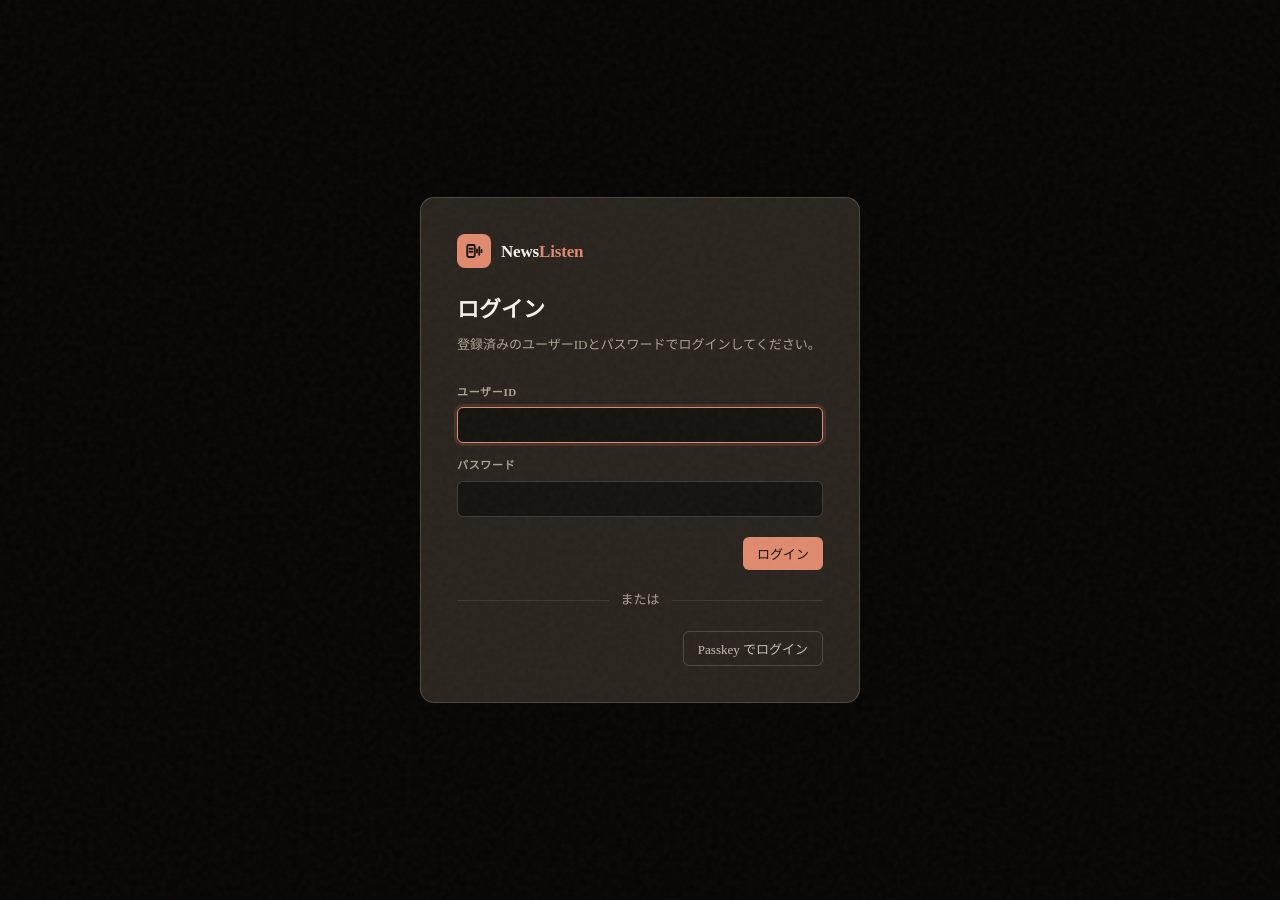
Test: LoginModal — Passkey ボタン › NotAllowedError（ユーザーキャンセル）時は情報漏洩しない汎用エラーを表示する
Click the button "Passkey でログイン": (753, 648) [683,631,823,666]
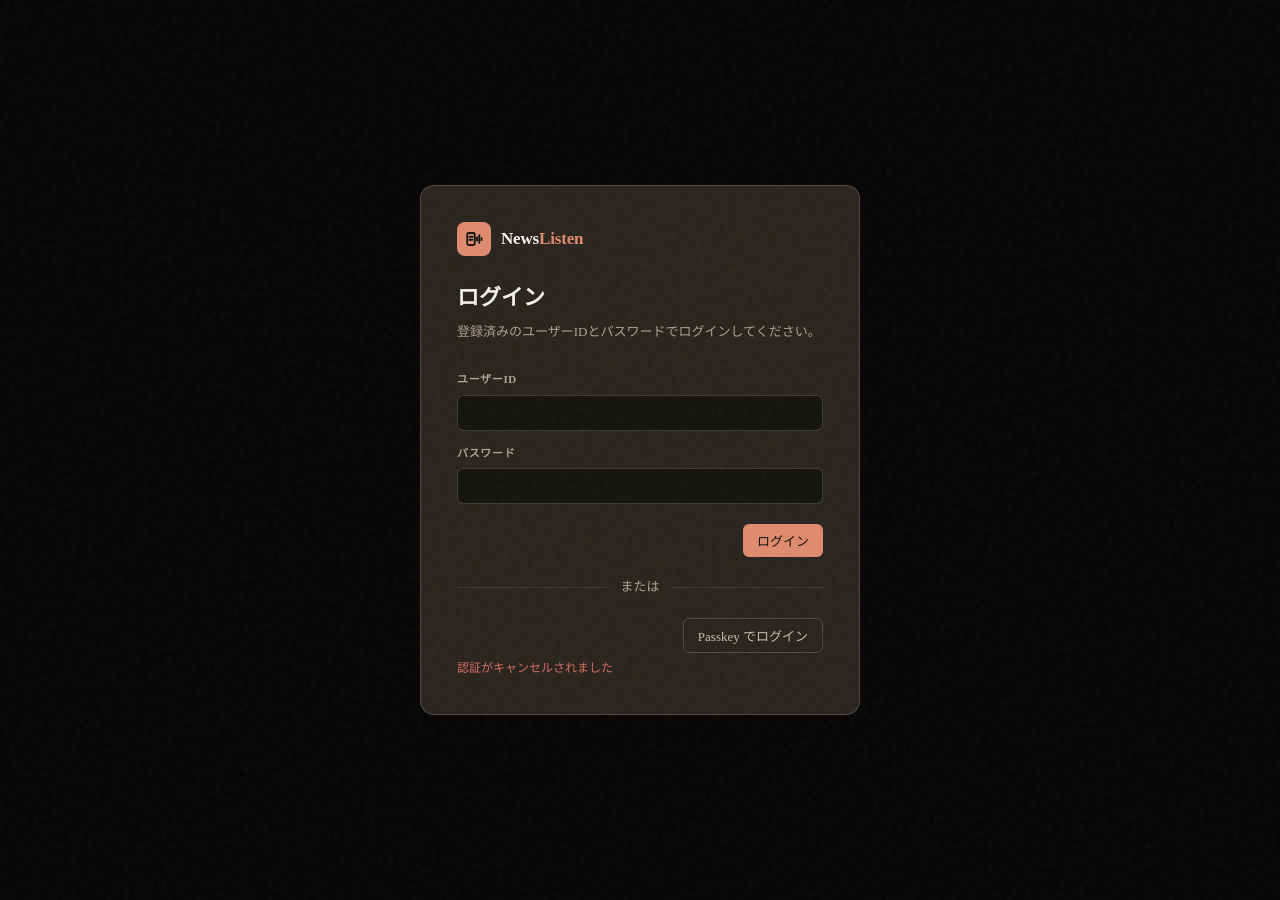
Expected: the message shows "キャンセル", [457,661,613,675]
